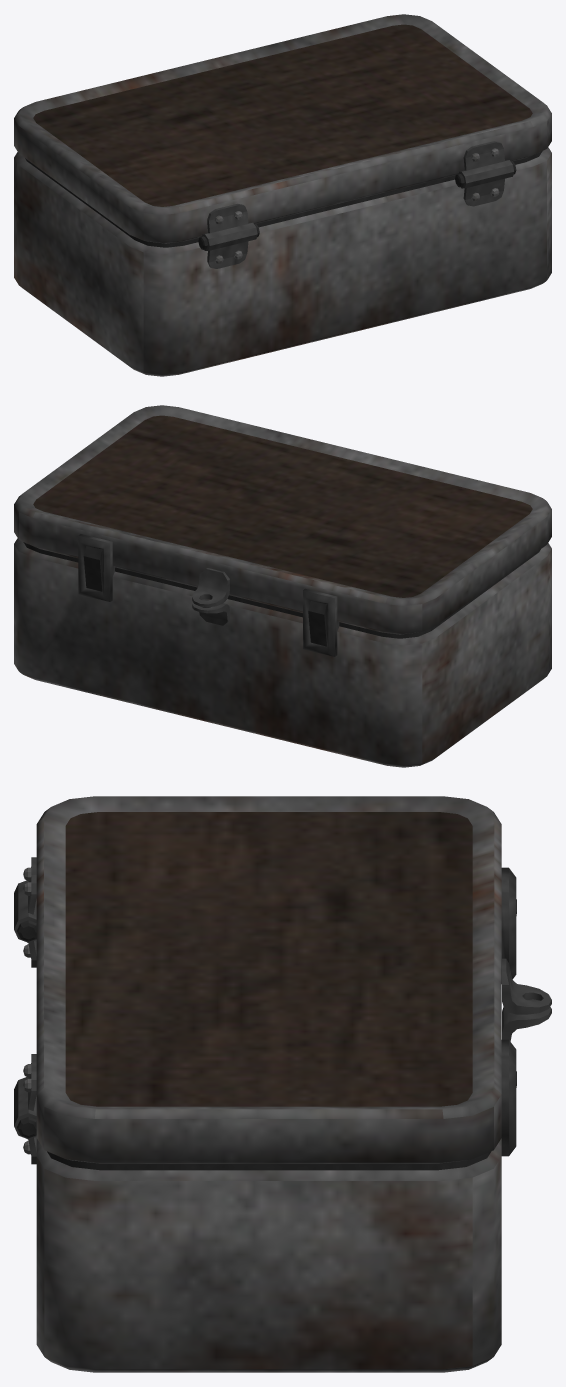
The model's file is metal_crate_1.obj.
3 renders of one model, top to bottom at view 1: azimuth 30°, elevation 25°; view 2: azimuth 150°, elevation 25°; view 3: azimuth 270°, elevation 25°, orthographic. The views are drawn at different scales.
Parts seen in each view (by area): view 1: metal_crate_1; view 2: metal_crate_1; view 3: metal_crate_1.
Boxes of the visible parts, <box> form: metal_crate_1: <box>14,14,551,376</box>; metal_crate_1: <box>14,405,551,767</box>; metal_crate_1: <box>14,796,551,1372</box>.
Bounding box in the file's own units: 0.52 × 0.2 × 0.3702.
